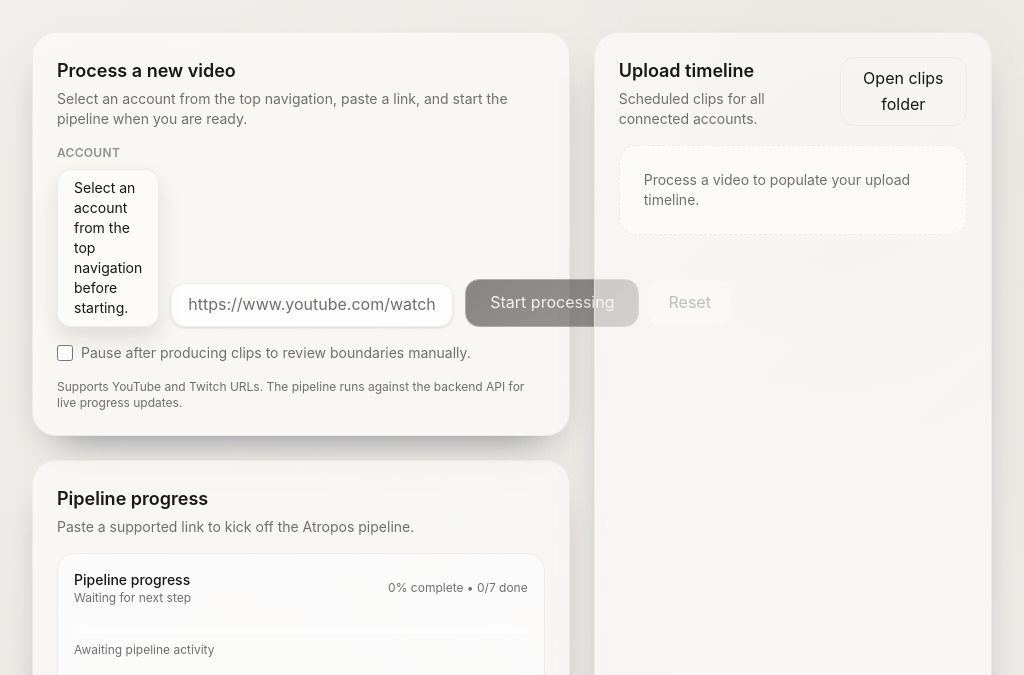
Test case: Home account selection › requires an account selection before starting processing
Type "https://www.youtube.com/watch?v=example" into the field named "video url".
click(312, 305); type("https://www.youtube.com/watch?v=example")  # box [171,283,453,327]
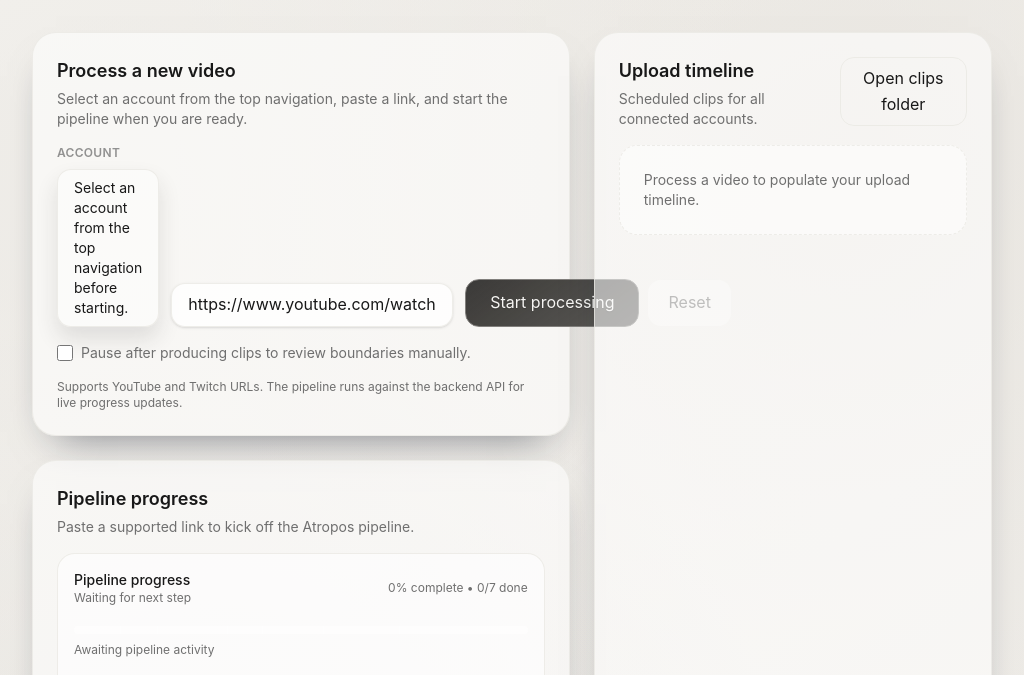
Submit the form named "video url", box [32,32,570,436]
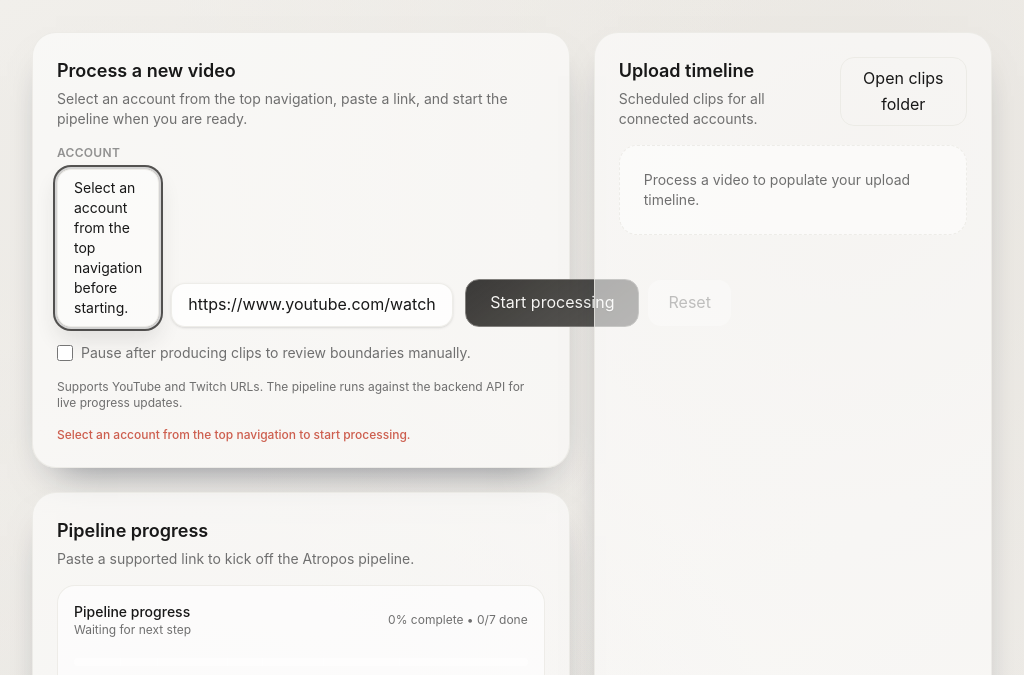
Result: the text "Select an account from the top navigation to start processing" is shown at [57,427,410,442]
